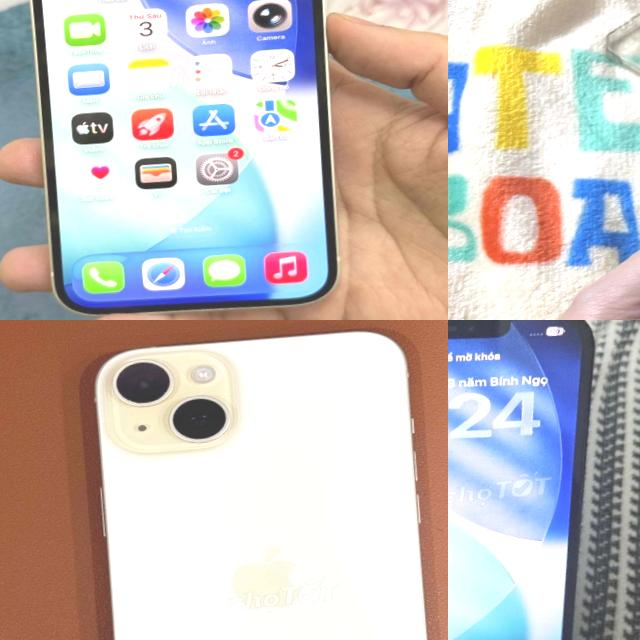gen_12_13: (448, 320, 618, 640)
gen_14: (3, 0, 355, 320)
gen_15: (81, 320, 448, 640)
